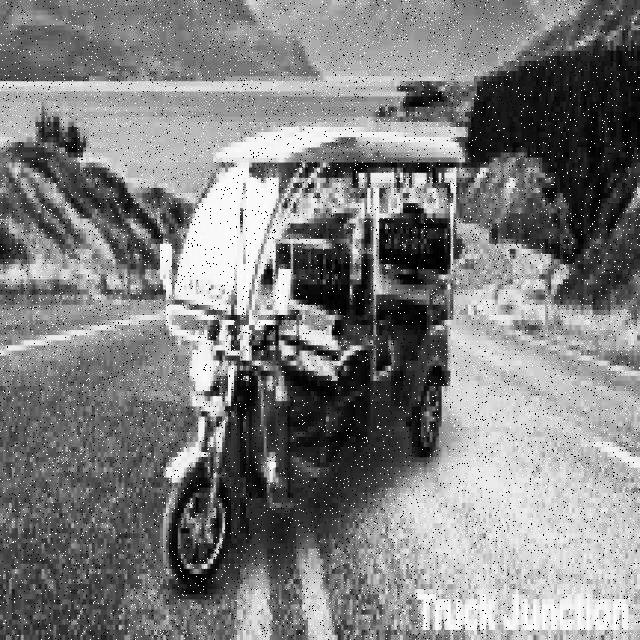Toto: (157, 121, 462, 598)
